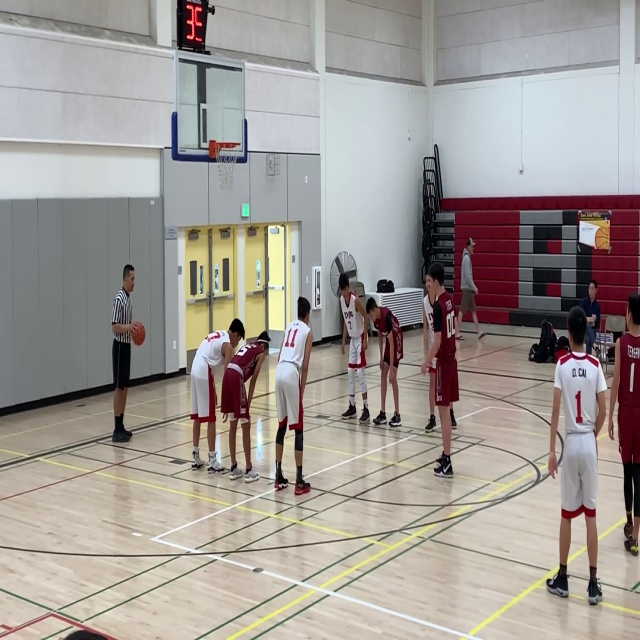Basketball: (130, 321, 145, 346)
